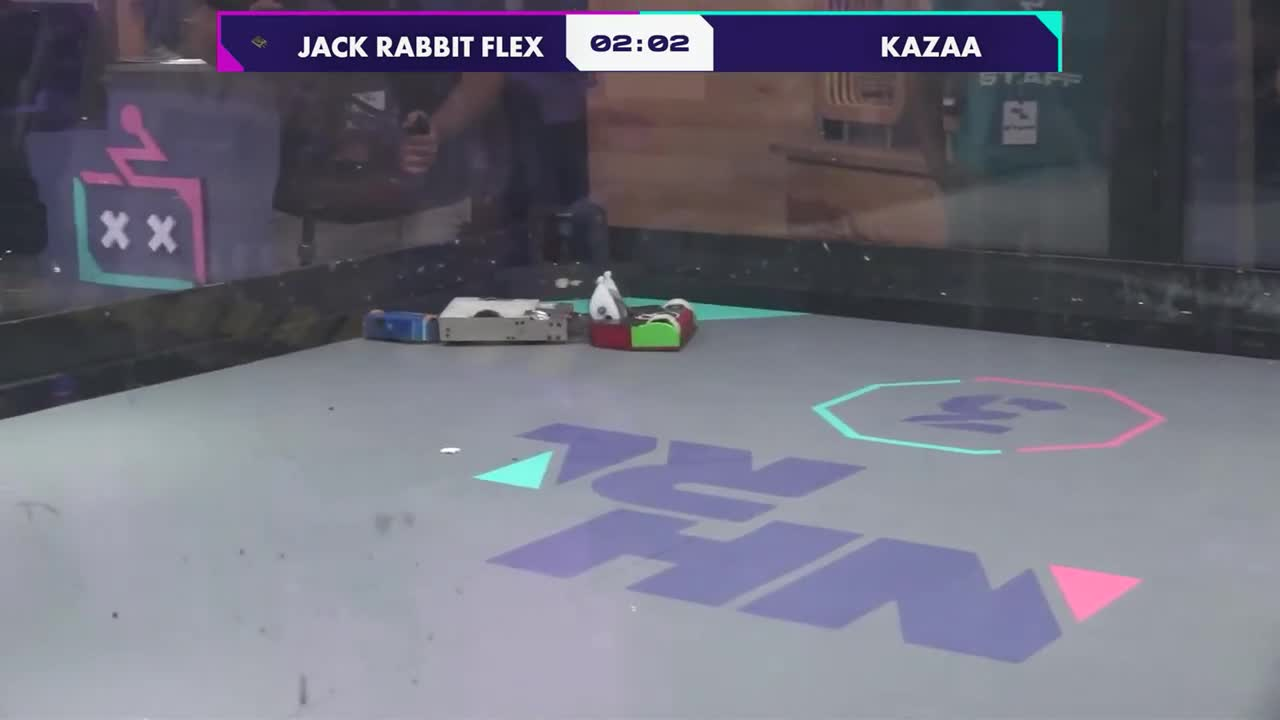combatbot: (586, 271, 699, 355), (438, 297, 587, 348)
minibot: (364, 300, 435, 347)
